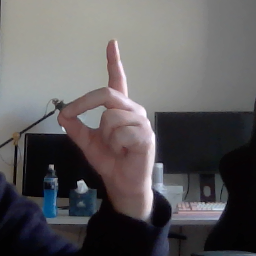K: (56, 37, 160, 190)
